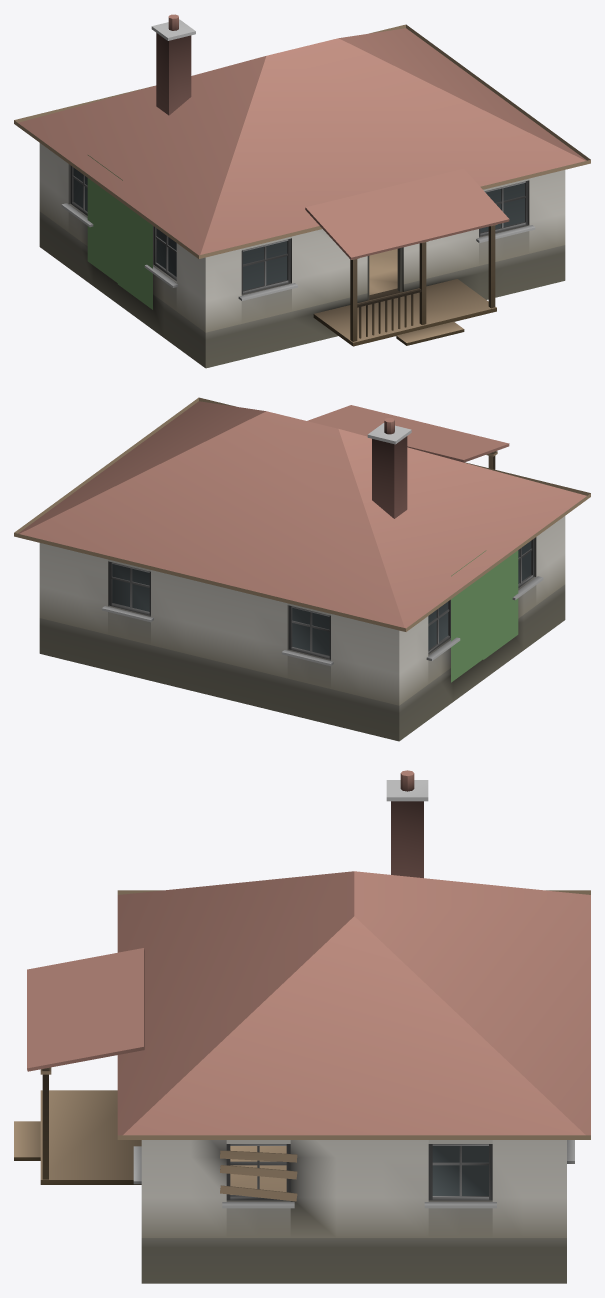
File: house_c2.glb
3 renders of one model, top to bottom at view 1: azimuth 30°, elevation 25°; view 2: azimuth 150°, elevation 25°; view 3: azimuth 270°, elevation 25°, orthographic. The views are drawn at different scales.
Visible parts, largest first — view 1: house_c2; view 2: house_c2; view 3: house_c2.
Part boxes in pixels (left/top/right/bottom): house_c2: left=14, top=14, right=590, bottom=368; house_c2: left=14, top=397, right=590, bottom=741; house_c2: left=14, top=770, right=590, bottom=1283.
Bounding box in the file's own units: 10.9 × 6.86 × 10.85.
